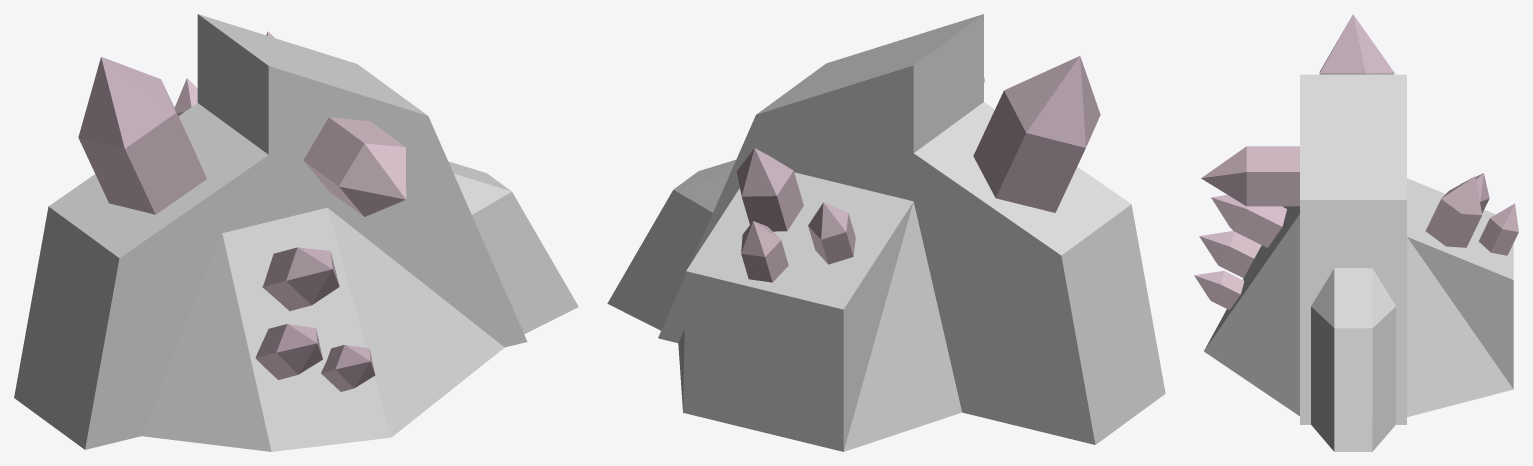
Rendered from Cuarzo_Tipo2.fbx.
The picture shows the model from 3 angles, left to right: view 1: azimuth 30°, elevation 25°; view 2: azimuth 150°, elevation 25°; view 3: azimuth 270°, elevation 25°; orthographic projection. The views are drawn at different scales.
Parts seen in each view (by area): view 1: base.018, cuarzo.004, cuarzo.011, cuarzo.008, cuarzo.010, cuarzo.009; view 2: base.018, cuarzo.004, cuarzo.005, cuarzo.007, cuarzo.006; view 3: base.018, cuarzo.011, cuarzo.005, cuarzo.004, cuarzo.008, cuarzo.010, cuarzo.007, cuarzo.009, cuarzo.006.
Part boxes in pixels (left/top/right/bottom): base.018: left=14, top=14, right=578, bottom=451; cuarzo.004: left=78, top=57, right=206, bottom=214; cuarzo.011: left=303, top=117, right=406, bottom=216; cuarzo.008: left=262, top=247, right=339, bottom=311; cuarzo.010: left=255, top=324, right=322, bottom=379; cuarzo.009: left=321, top=345, right=375, bottom=391; base.018: left=607, top=14, right=1165, bottom=451; cuarzo.004: left=973, top=56, right=1100, bottom=212; cuarzo.005: left=736, top=148, right=803, bottom=231; cuarzo.007: left=741, top=221, right=788, bottom=282; cuarzo.006: left=808, top=202, right=855, bottom=264; base.018: left=1204, top=74, right=1513, bottom=451; cuarzo.011: left=1201, top=146, right=1299, bottom=206; cuarzo.005: left=1425, top=176, right=1482, bottom=247; cuarzo.004: left=1319, top=14, right=1394, bottom=74; cuarzo.008: left=1211, top=195, right=1286, bottom=247; cuarzo.010: left=1199, top=231, right=1261, bottom=277; cuarzo.007: left=1478, top=203, right=1518, bottom=255; cuarzo.009: left=1194, top=271, right=1244, bottom=309; cuarzo.006: left=1461, top=173, right=1489, bottom=213.
Size of the model in its own units: 140 by 91.99 by 101.
